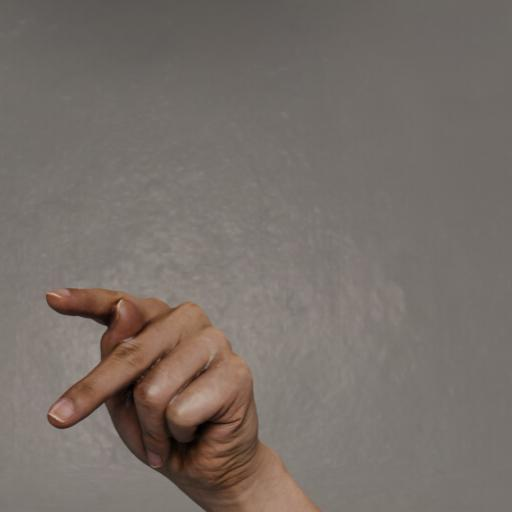P: (31, 273, 289, 512)
